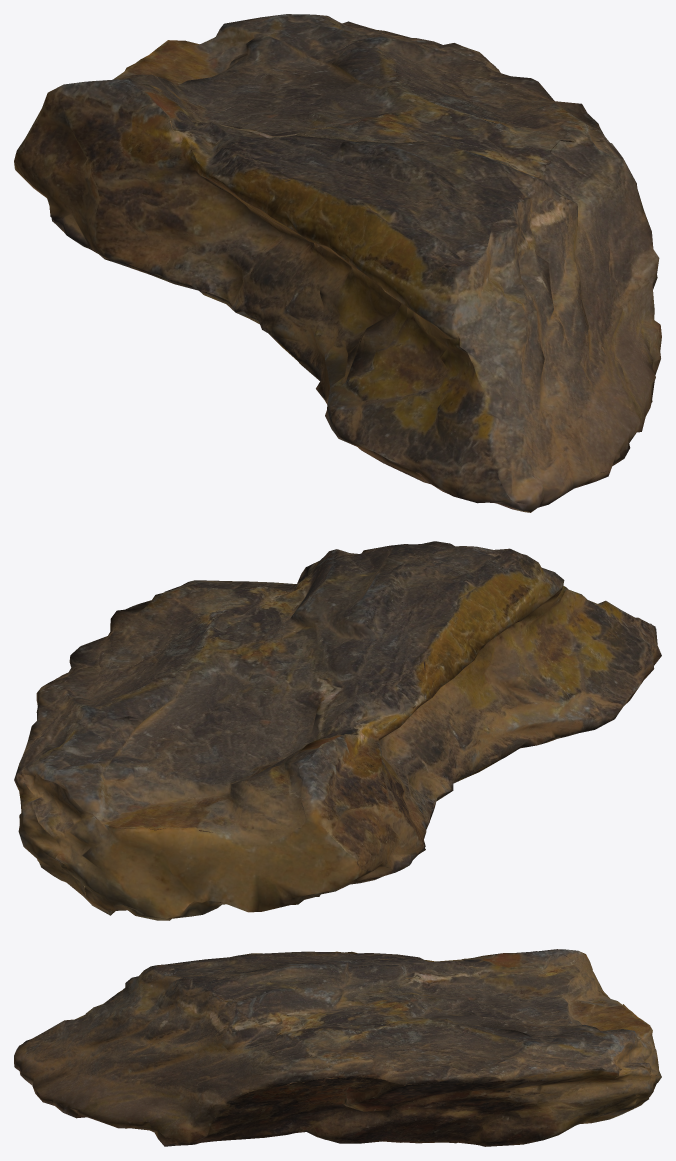
The model's file is rock_09_lod0.glb.
3 views of the same model, one above another, from view 1: azimuth 30°, elevation 25°; view 2: azimuth 150°, elevation 25°; view 3: azimuth 270°, elevation 25° (orthographic). The views are drawn at different scales.
Parts seen in each view (by area): view 1: rock_09_LOD0; view 2: rock_09_LOD0; view 3: rock_09_LOD0.
Boxes of the visible parts, bbox=[...] form: rock_09_LOD0: bbox=[14, 14, 661, 512]; rock_09_LOD0: bbox=[14, 541, 661, 920]; rock_09_LOD0: bbox=[14, 949, 661, 1146].
Bounding box in the file's own units: 0.0739 × 0.0329 × 0.1447.
1 material, 1 textured.
